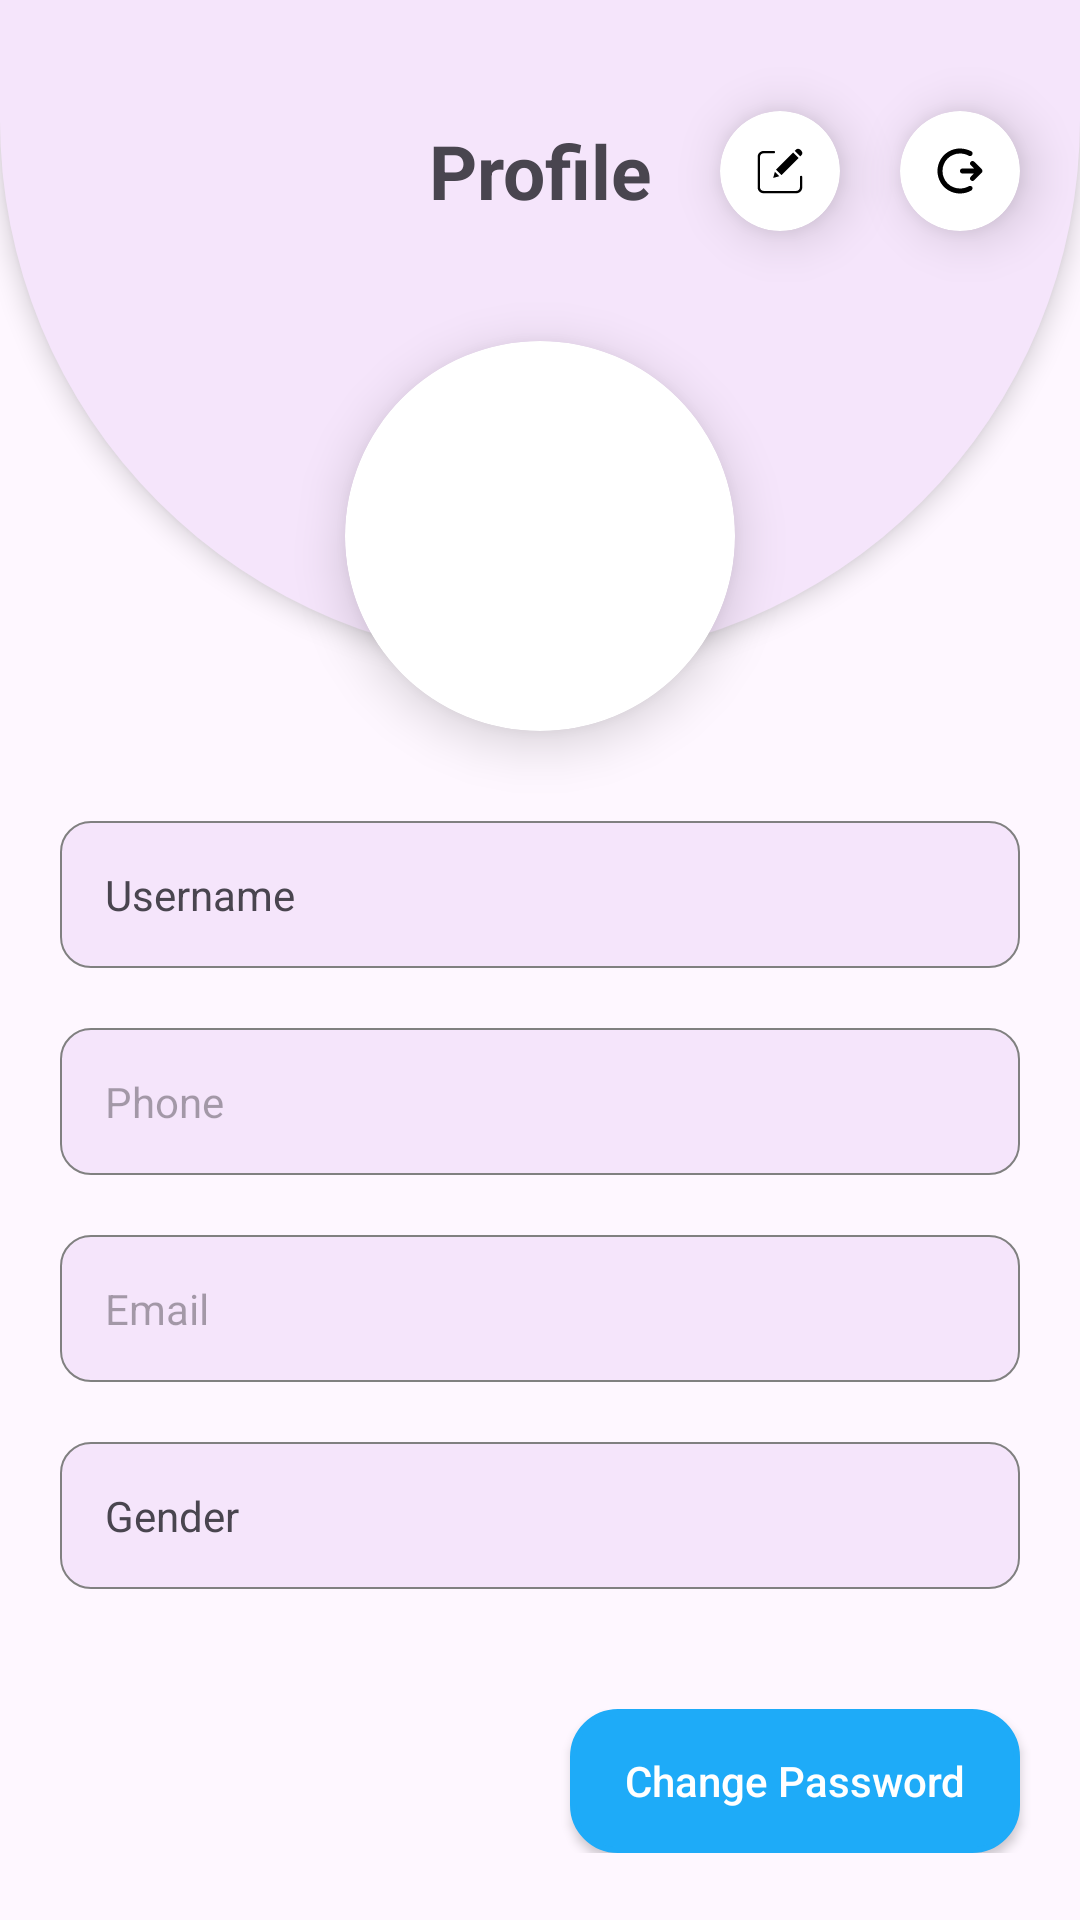

Icon bounding boxes for this 1080px×1920px phone screenshot, format (x1, y1, x2, y2):
edit: (757, 148, 803, 194)
